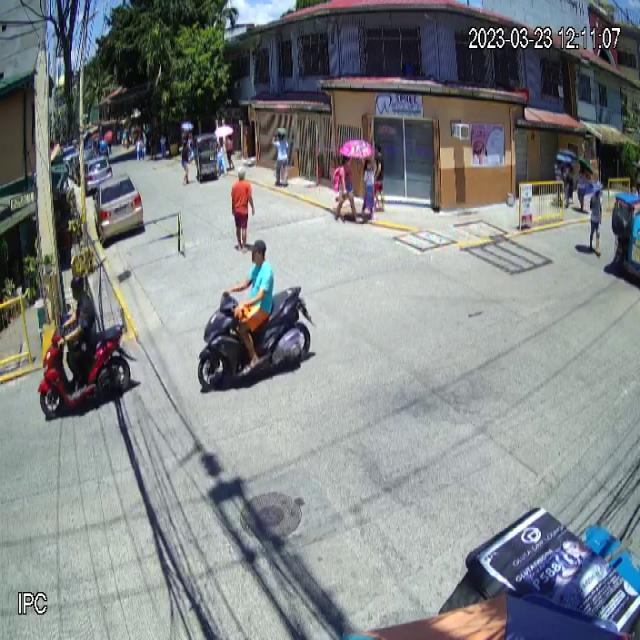Motorcycle: (194, 284, 317, 395), (37, 320, 139, 422)
